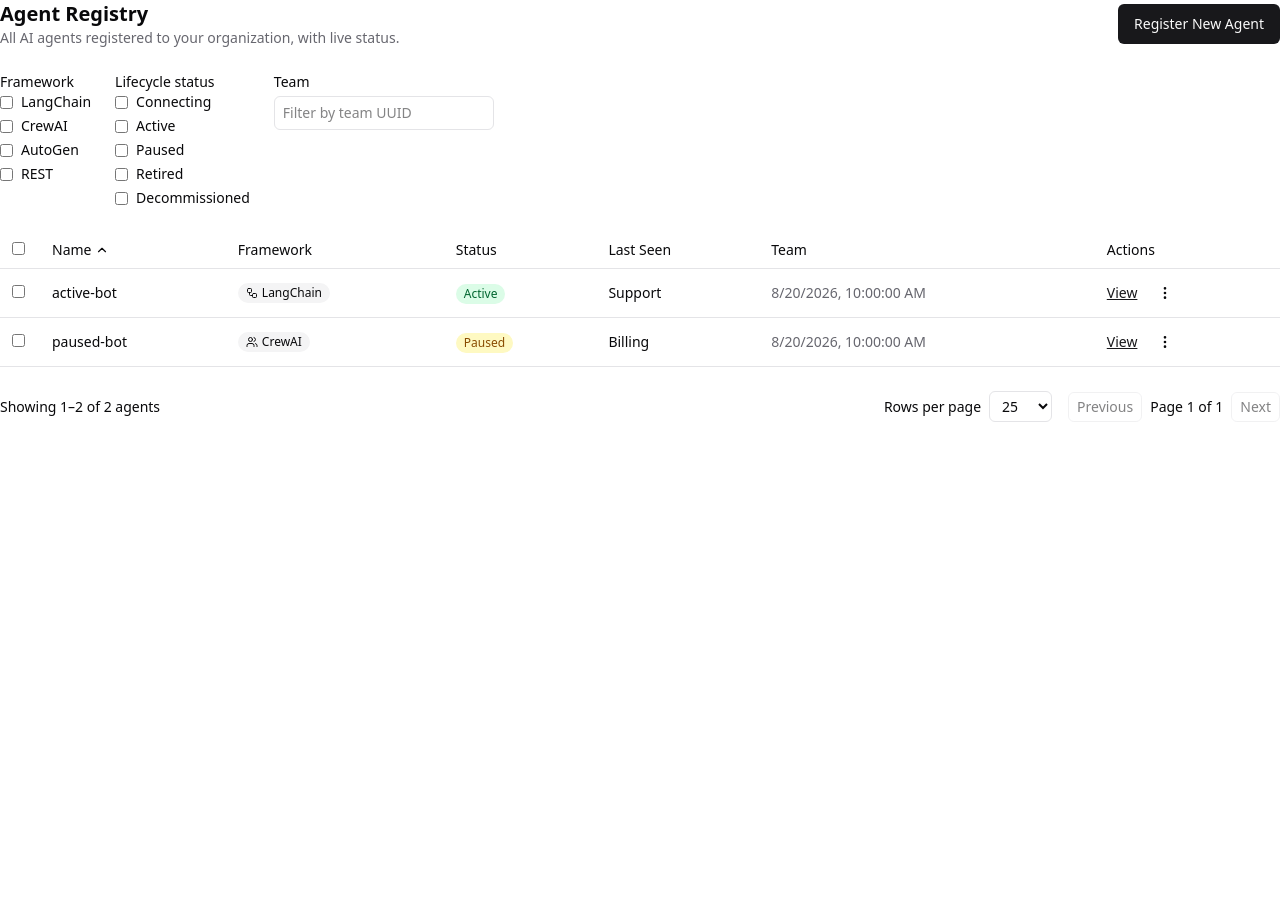
Test: AgentRegistryPage — lifecycle management (WO-081) › 409 conflict: shows 'Agent status has changed' and refreshes the registry
Expected: the text "active-bot" is shown, x1=40 y1=268 x2=226 y2=318
Click the button named "Actions for active-bot": coordinates (1165, 293) x1=1149 y1=277 x2=1181 y2=309
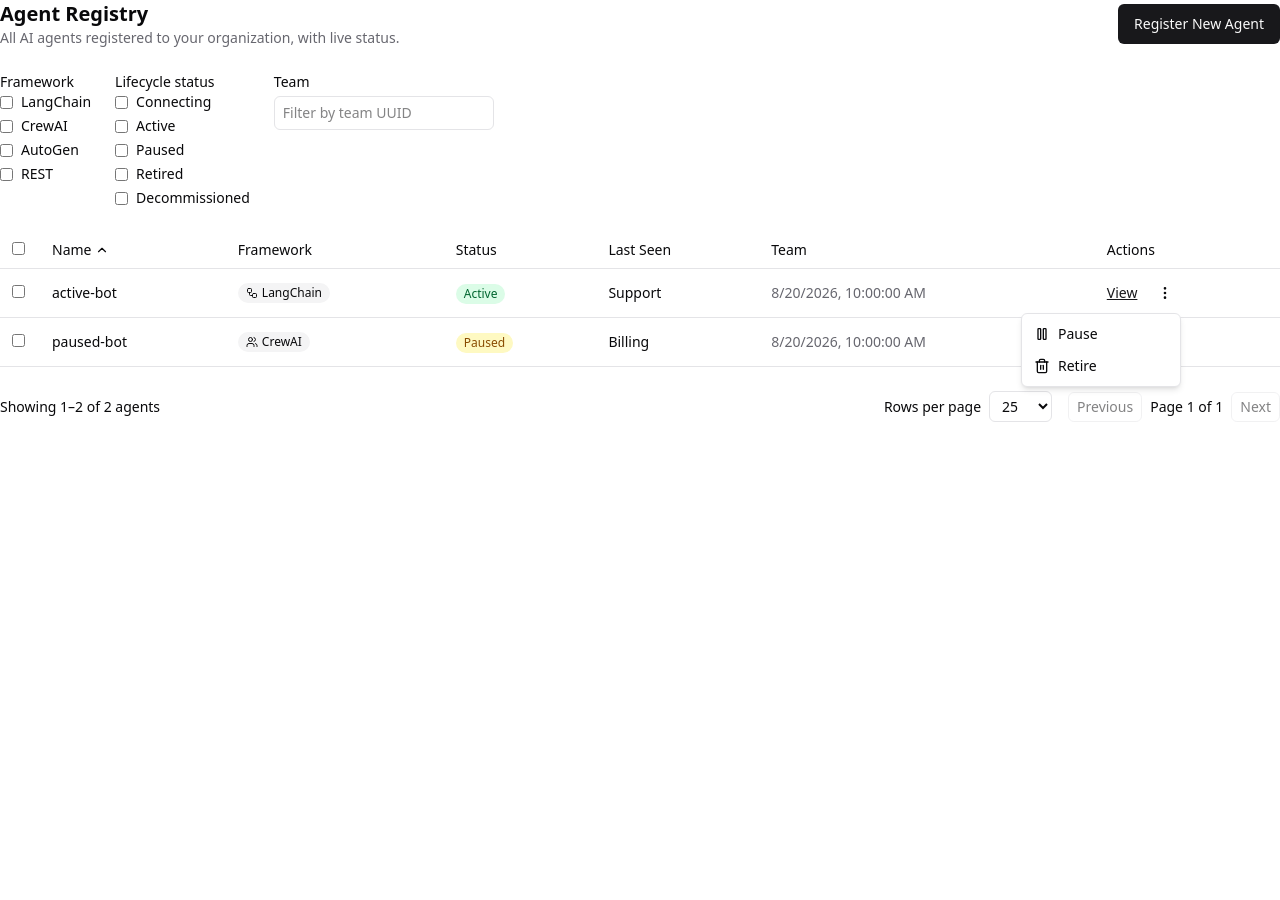
Click the menu item "Pause": coordinates (1066, 334) x1=1034 y1=324 x2=1098 y2=343
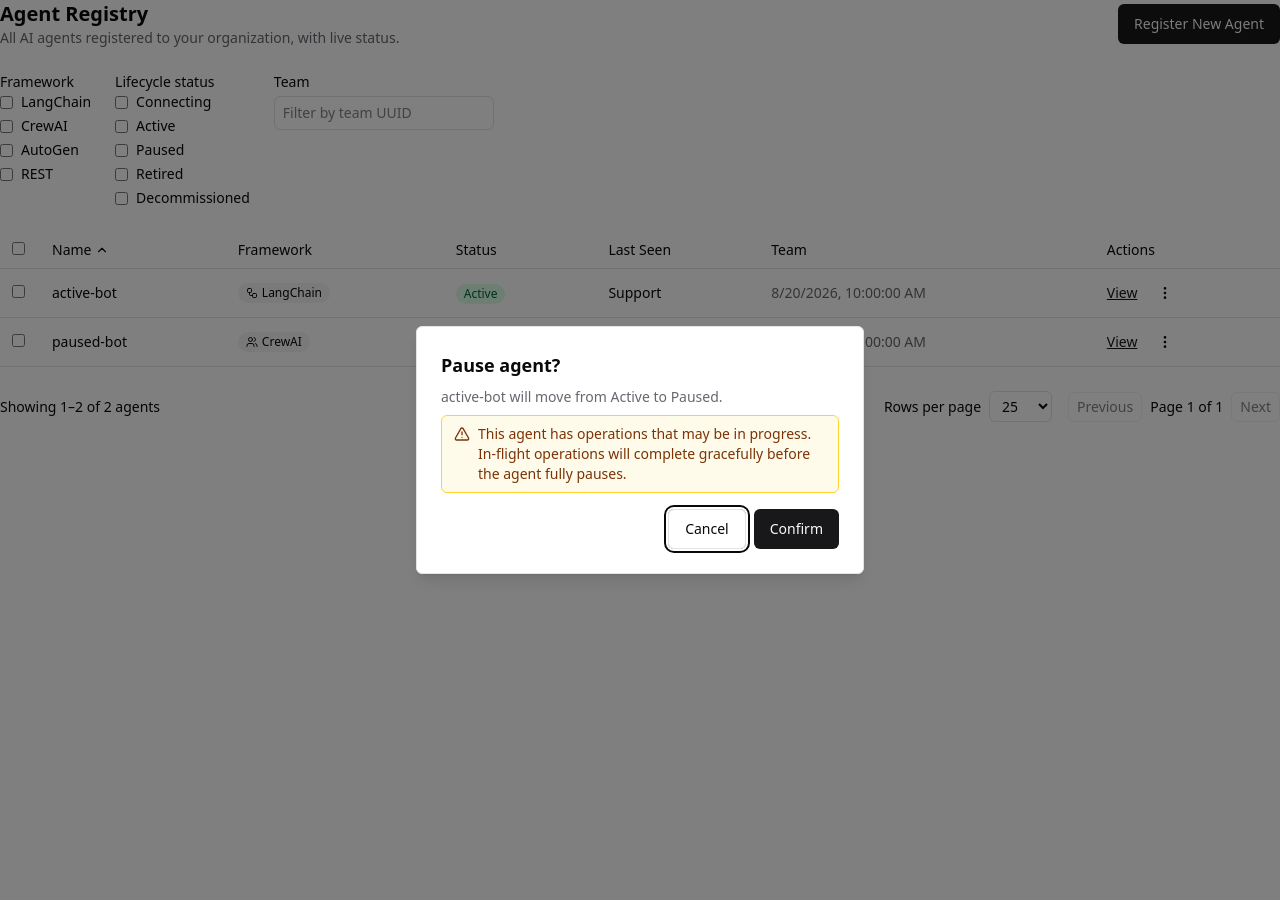
Click the button "Confirm": coordinates (796, 529) x1=754 y1=509 x2=839 y2=549
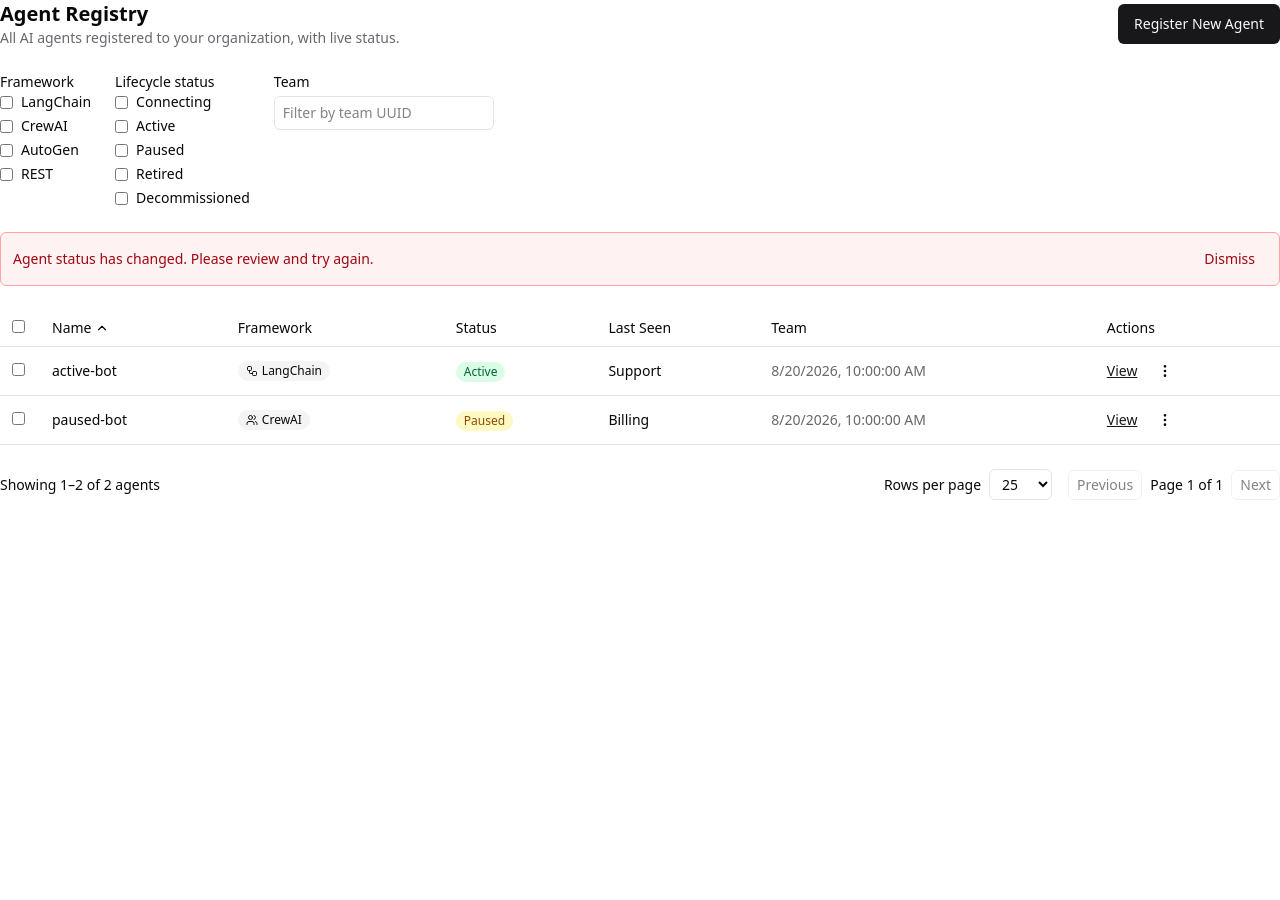
Result: the message "Agent status has changed. Please review and try again. Dismiss" is shown at x1=0 y1=232 x2=1279 y2=286
